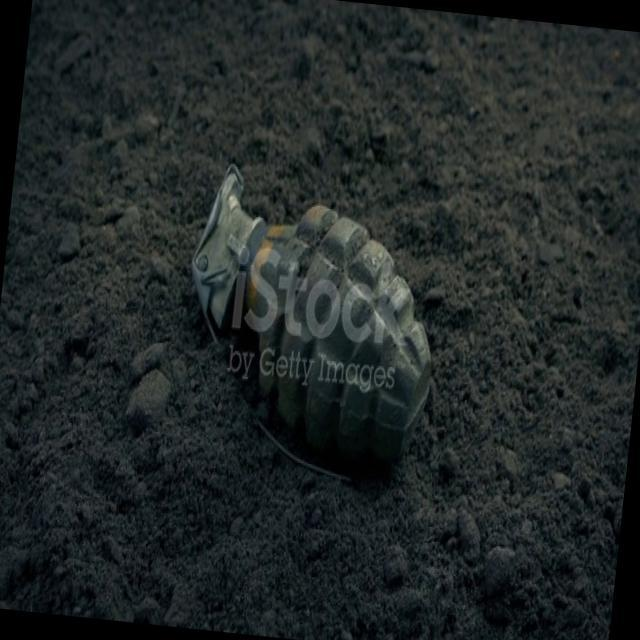grenade: (173, 166, 450, 480)
